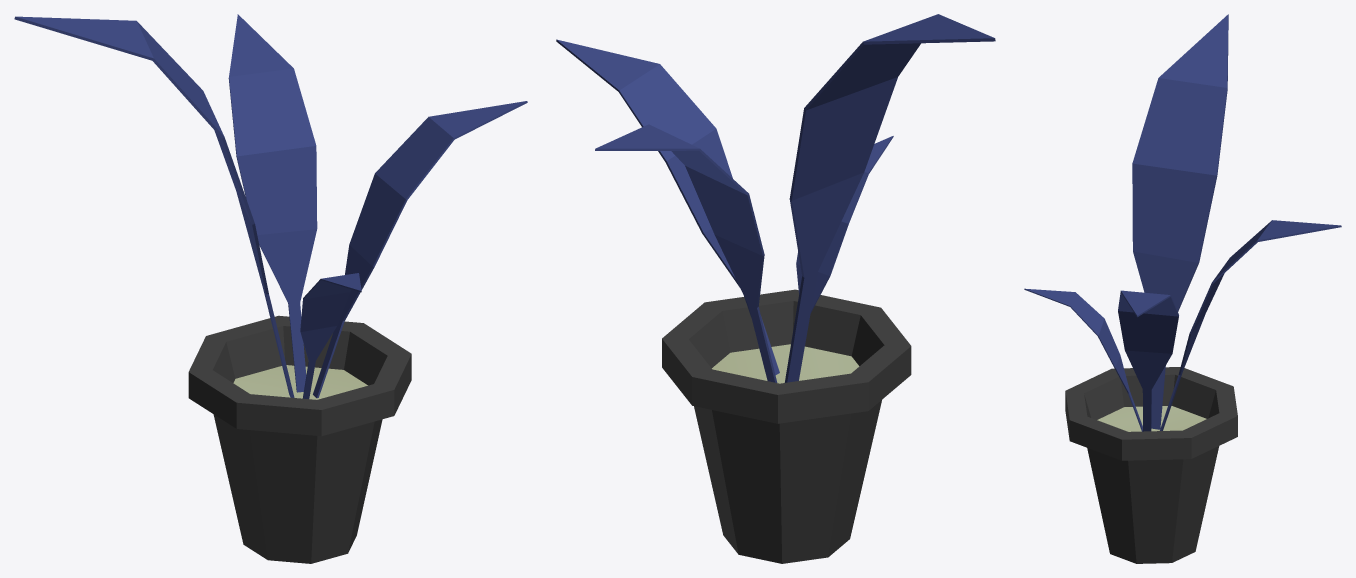
File: Office2_Flower.fbx
The picture shows the model from 3 angles, left to right: view 1: azimuth 30°, elevation 25°; view 2: azimuth 150°, elevation 25°; view 3: azimuth 270°, elevation 25°; orthographic projection. The views are drawn at different scales.
Visible parts, largest first — view 1: Office2_Flower; view 2: Office2_Flower; view 3: Office2_Flower.
Part boxes in pixels (left/top/right/bottom): Office2_Flower: left=14, top=14, right=527, bottom=563; Office2_Flower: left=556, top=14, right=995, bottom=563; Office2_Flower: left=1024, top=14, right=1341, bottom=563.
Size of the model in its own units: 75.25 by 86.09 by 56.48.
